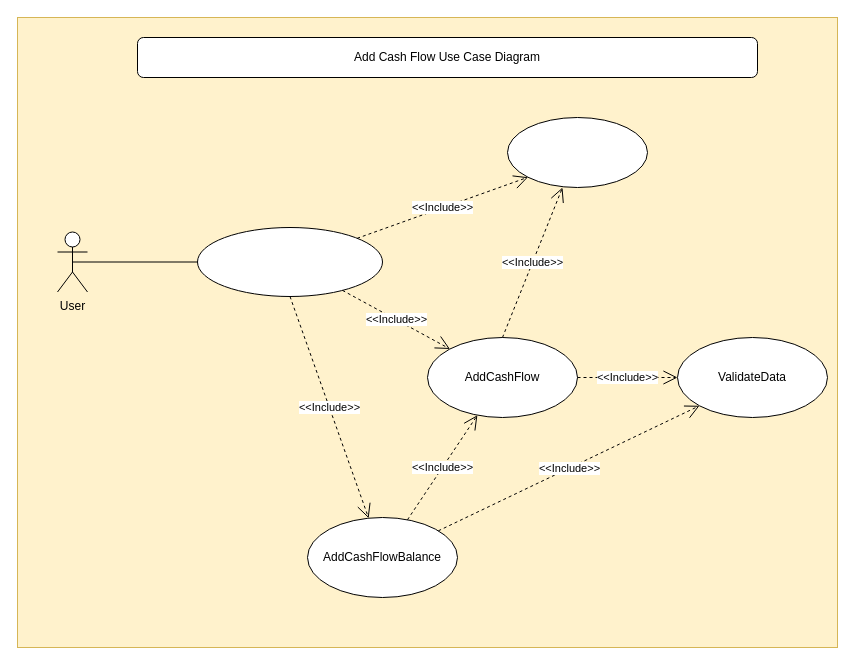
Image size: 855x665. Some labels were removed from this diagram. Here are the shapes that lost their labels. From the top down, the box of each, then its label:
(506, 116, 648, 188): GenerateIdentifier
(196, 226, 382, 296): DelegateCashFlowAdd
